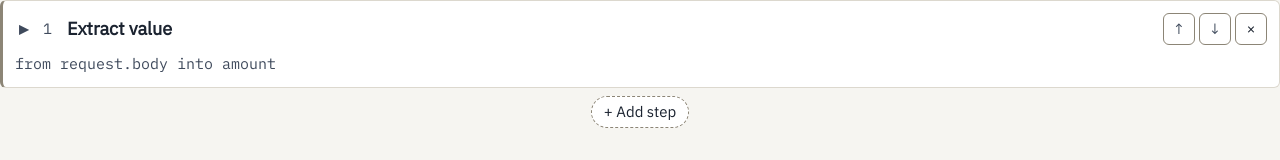
StepList editing › removes the last step and shows the empty state with the add button
This screenshot has width=1280, height=160.
Click the button named "Remove step 1: Extract value". click: coordinates (1251, 29)
box: [1235, 13, 1267, 45]
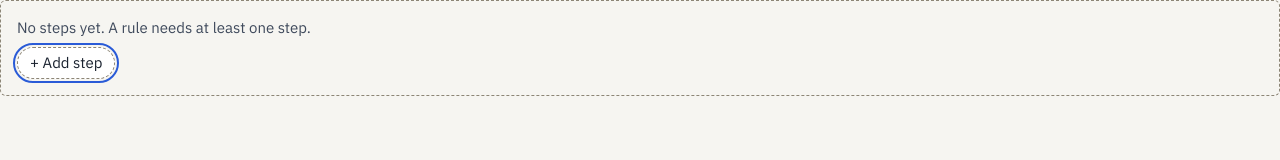
expect the text "No steps yet. A rule needs at least one step." is shown: met, box [17, 17, 311, 39]
expect the button with aria-label "Add step at position 1" is shown: met, box [17, 47, 116, 79]
